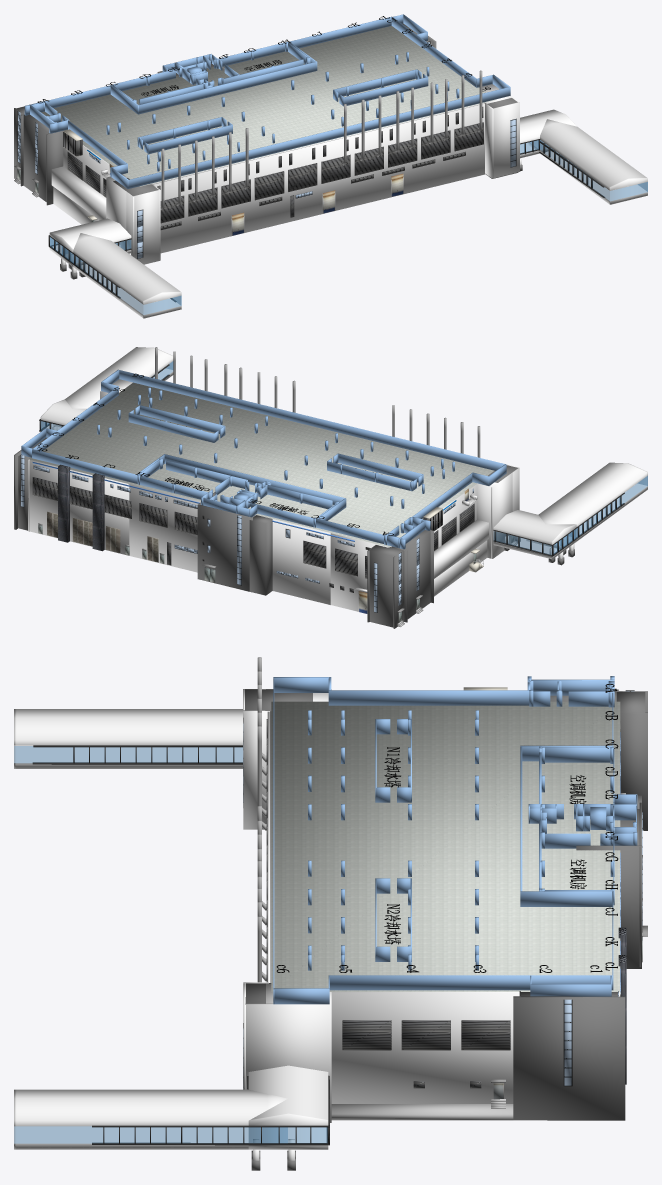
File: cup_6f_mini.gltf
3 views of the same model, one above another, from view 1: azimuth 30°, elevation 25°; view 2: azimuth 150°, elevation 25°; view 3: azimuth 270°, elevation 25° (orthographic). The views are drawn at different scales.
Parts seen in each view (by area): view 1: cup_dimian_r1f, cup_waiguan_r1_4, cup_waiguan_r1_329, cup_waiguan_r1_274, cup_qiang_r1f_127, cup_qiang_r1f_53, cup_waiguan_r1_347, cup_waiguan_r1_90, cup_waiguan_r1_68, cup_waiguan_r1_71, cup_waiguan_r1_14, cup_waiguan_r1_292 (+27 smaller); view 2: cup_dimian_r1f, cup_waiguan_r1_95, cup_waiguan_r1_329, cup_qiang_r1f_127, cup_waiguan_r1_84, cup_waiguan_r1_94, cup_waiguan_r1_347, cup_waiguan_r1_274, cup_waiguan_r1_91, cup_waiguan_r1_93, cup_waiguan_r1_230, cup_waiguan_r1_74 (+32 smaller); view 3: cup_dimian_r1f, cup_waiguan_r1_37, cup_waiguan_r1_274, cup_waiguan_r1_36, cup_waiguan_r1_329, cup_waiguan_r1_292, cup_waiguan_r1_42, cup_qiang_r1f_130, cup_qiang_r1f_94, cup_waiguan_r1_61, cup_waiguan_r1_50, cup_waiguan_r1_228 (+13 smaller).
Part boxes in pixels (<box>): cup_dimian_r1f: <box>41,26,495,186</box>; cup_waiguan_r1_4: <box>153,103,485,253</box>; cup_waiguan_r1_329: <box>62,233,181,318</box>; cup_waiguan_r1_274: <box>528,119,647,204</box>; cup_qiang_r1f_127: <box>128,87,510,188</box>; cup_qiang_r1f_53: <box>139,62,316,114</box>; cup_waiguan_r1_347: <box>49,218,131,266</box>; cup_waiguan_r1_90: <box>23,114,49,201</box>; cup_waiguan_r1_68: <box>493,102,519,178</box>; cup_waiguan_r1_71: <box>133,190,159,264</box>; cup_waiguan_r1_14: <box>51,166,106,220</box>; cup_waiguan_r1_292: <box>520,109,576,158</box>; cup_dimian_r1f: <box>28,382,493,547</box>; cup_waiguan_r1_95: <box>128,484,330,604</box>; cup_waiguan_r1_329: <box>526,462,647,548</box>; cup_qiang_r1f_127: <box>119,370,504,470</box>; cup_waiguan_r1_84: <box>197,504,252,590</box>; cup_waiguan_r1_94: <box>29,460,129,555</box>; cup_waiguan_r1_347: <box>493,510,576,559</box>; cup_waiguan_r1_274: <box>53,347,173,427</box>; cup_waiguan_r1_91: <box>330,533,388,611</box>; cup_waiguan_r1_93: <box>369,545,403,627</box>; cup_waiguan_r1_230: <box>249,515,272,595</box>; cup_waiguan_r1_74: <box>477,472,512,558</box>; cup_dimian_r1f: <box>271,701,620,991</box>; cup_waiguan_r1_37: <box>331,992,620,1103</box>; cup_waiguan_r1_274: <box>14,1089,287,1149</box>; cup_waiguan_r1_36: <box>513,996,625,1120</box>; cup_waiguan_r1_329: <box>14,709,242,768</box>; cup_waiguan_r1_292: <box>248,1065,328,1149</box>; cup_waiguan_r1_42: <box>245,1003,329,1089</box>; cup_qiang_r1f_130: <box>329,975,613,990</box>; cup_qiang_r1f_94: <box>328,690,529,705</box>; cup_waiguan_r1_61: <box>331,1104,513,1120</box>; cup_waiguan_r1_50: <box>620,712,647,830</box>; cup_waiguan_r1_228: <box>576,845,641,968</box>.
Size of the model in its own units: 276 by 55.54 by 179.
Materials: 28 (12 with a texture image).
